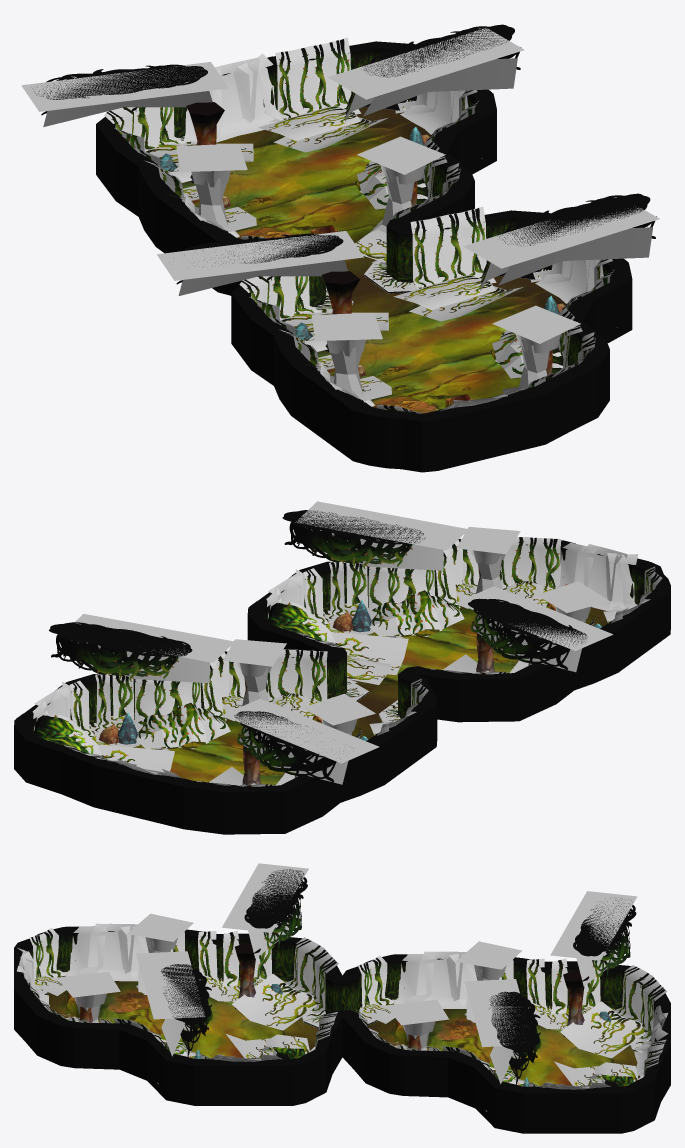
File: Dungeon_021_QuestBossRoom.fbx
3 views of the same model, one above another, from view 1: azimuth 30°, elevation 25°; view 2: azimuth 150°, elevation 25°; view 3: azimuth 270°, elevation 25° (orthographic). The views are drawn at different scales.
Visible parts, largest first — view 1: Dungeon_021_Object_025 (×4), Dun_021_Room_003_wall (×4), Dun_021_Room_003_ground (×4), Dungeon_021_Object_021 (×4), un_021_Door_002 (×3), un_021_Door_002_Object1 (×3), Dungeon_021_Object_024 (×4), Dungeon_021_Object_012 (×2), Dungeon_021_Object_010 (×2), Dungeon_021_Object_022 (×2), Dungeon_011_Object_010 (×2), Dungeon_021_Object_013 (×2) (+2 smaller); view 2: Dungeon_021_Object_025 (×4), Dun_021_Room_003_wall (×4), Dungeon_021_Object_021 (×4), Dun_021_Room_003_ground (×2), Dungeon_021_Object_024 (×4), un_021_Door_002 (×3), Dungeon_021_Object_016 (×4), un_021_Door_002_Object1 (×3), Dungeon_021_Object_022 (×4), Dungeon_021_Object_010 (×2), Dungeon_021_Object_012 (×2), Dungeon_021_Object_011 (×2) (+1 smaller); view 3: Dun_021_Room_003_wall (×4), Dungeon_021_Object_025 (×4), Dungeon_021_Object_021 (×4), Dun_021_Room_003_ground (×3), Dungeon_021_Object_022 (×4), un_021_Door_002_Object1 (×4), un_021_Door_002 (×2), Dungeon_021_Object_024 (×4), Dungeon_021_Object_010 (×2), Dungeon_021_Object_012 (×2), Dungeon_011_Object_010 (×2).
Boxes of the visible parts, bbox=[...] form: Dungeon_021_Object_025 (×4): bbox=[21, 24, 659, 295]; Dun_021_Room_003_wall (×4): bbox=[96, 41, 632, 472]; Dun_021_Room_003_ground (×4): bbox=[174, 107, 566, 413]; Dungeon_021_Object_021 (×4): bbox=[104, 37, 614, 413]; un_021_Door_002 (×3): bbox=[157, 193, 542, 466]; un_021_Door_002_Object1 (×3): bbox=[183, 53, 603, 303]; Dungeon_021_Object_024 (×4): bbox=[258, 92, 550, 321]; Dungeon_021_Object_012 (×2): bbox=[176, 143, 382, 356]; Dungeon_021_Object_010 (×2): bbox=[357, 136, 580, 353]; Dungeon_021_Object_022 (×2): bbox=[144, 143, 617, 401]; Dungeon_011_Object_010 (×2): bbox=[186, 102, 359, 352]; Dungeon_021_Object_013 (×2): bbox=[195, 178, 374, 406]; Dungeon_021_Object_025 (×4): bbox=[49, 501, 613, 784]; Dun_021_Room_003_wall (×4): bbox=[14, 540, 670, 834]; Dungeon_021_Object_021 (×4): bbox=[56, 537, 662, 786]; Dun_021_Room_003_ground (×2): bbox=[133, 606, 607, 784]; Dungeon_021_Object_024 (×4): bbox=[34, 601, 408, 772]; un_021_Door_002 (×3): bbox=[96, 589, 668, 825]; Dungeon_021_Object_016 (×4): bbox=[136, 590, 464, 748]; un_021_Door_002_Object1 (×3): bbox=[32, 542, 638, 730]; Dungeon_021_Object_022 (×4): bbox=[91, 581, 628, 785]; Dungeon_021_Object_010 (×2): bbox=[223, 527, 520, 676]; Dungeon_021_Object_012 (×2): bbox=[303, 581, 609, 732]; Dungeon_021_Object_011 (×2): bbox=[239, 556, 503, 722]; Dun_021_Room_003_wall (×4): bbox=[14, 927, 670, 1133]; Dungeon_021_Object_025 (×4): bbox=[136, 863, 637, 1085]; Dungeon_021_Object_021 (×4): bbox=[26, 928, 666, 1086]; Dun_021_Room_003_ground (×3): bbox=[46, 981, 640, 1085]; Dungeon_021_Object_022 (×4): bbox=[34, 965, 645, 1111]; un_021_Door_002_Object1 (×4): bbox=[17, 923, 668, 1076]; un_021_Door_002 (×2): bbox=[197, 1058, 619, 1133]; Dungeon_021_Object_024 (×4): bbox=[226, 1034, 638, 1086]; Dungeon_021_Object_010 (×2): bbox=[57, 971, 448, 1035]; Dungeon_021_Object_012 (×2): bbox=[127, 913, 522, 979]; Dungeon_011_Object_010 (×2): bbox=[234, 942, 589, 1036].
Size of what is drawn, in the model's own units: 21.47 by 4.55 by 30.
